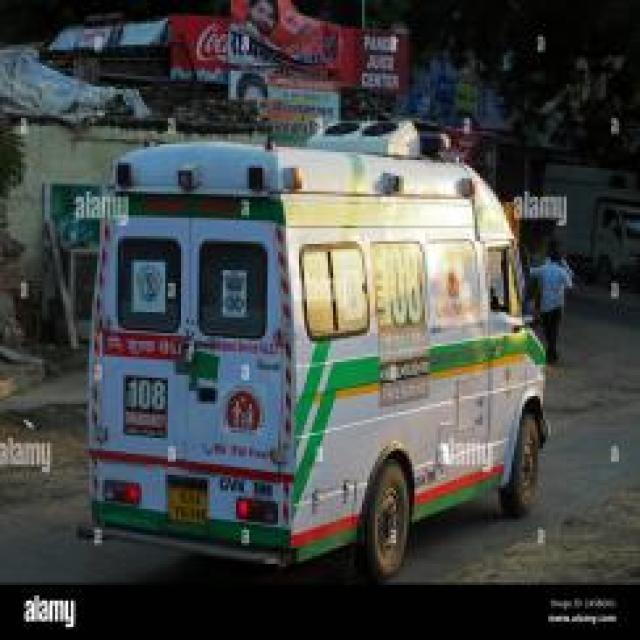Ambulance: (0, 275, 637, 587), (532, 157, 638, 294), (522, 238, 577, 368)
